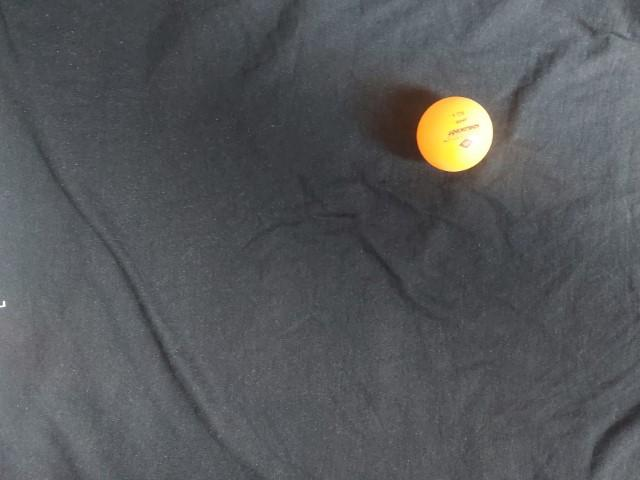oball: (141, 303, 229, 394)
